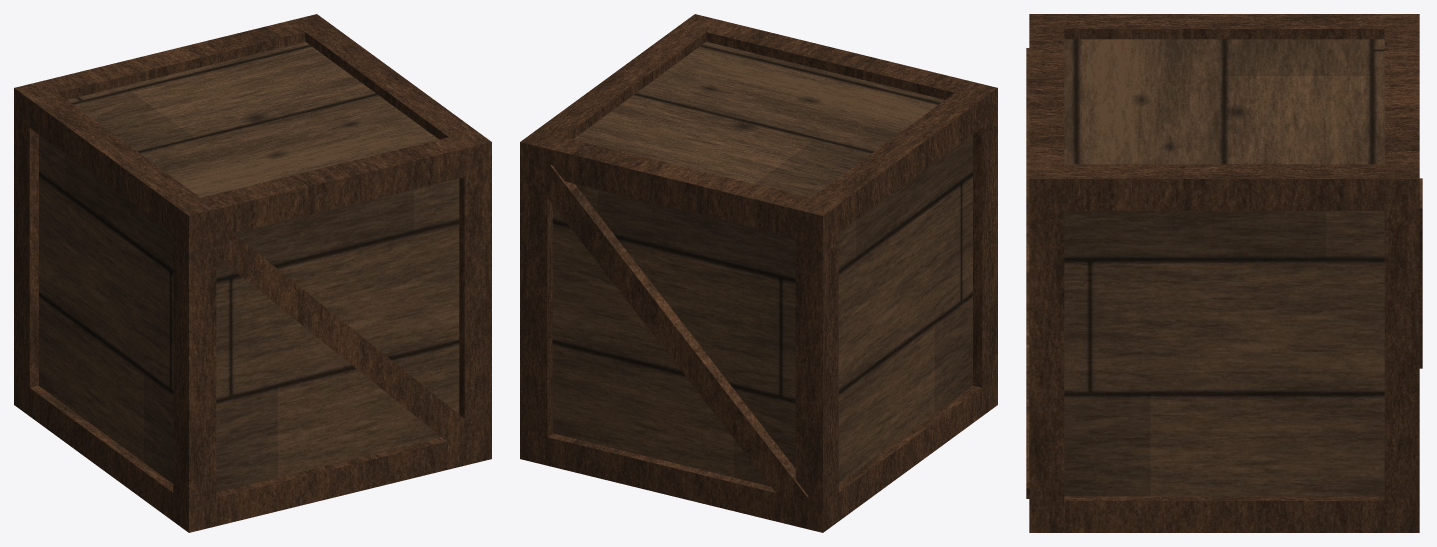
The model's file is crate_wood_a.glb.
3 renders of one model, left to right at view 1: azimuth 30°, elevation 25°; view 2: azimuth 150°, elevation 25°; view 3: azimuth 270°, elevation 25°, orthographic. The views are drawn at different scales.
Parts seen in each view (by area): view 1: crate_wood_a; view 2: crate_wood_a; view 3: crate_wood_a.
Boxes of the visible parts, x1,y1,x2,y2 form: crate_wood_a: (14, 14, 491, 532); crate_wood_a: (520, 14, 997, 532); crate_wood_a: (1026, 14, 1422, 532).
Bounding box in the file's own units: 0.66 × 0.66 × 0.6692.
2 materials, 2 textured.
